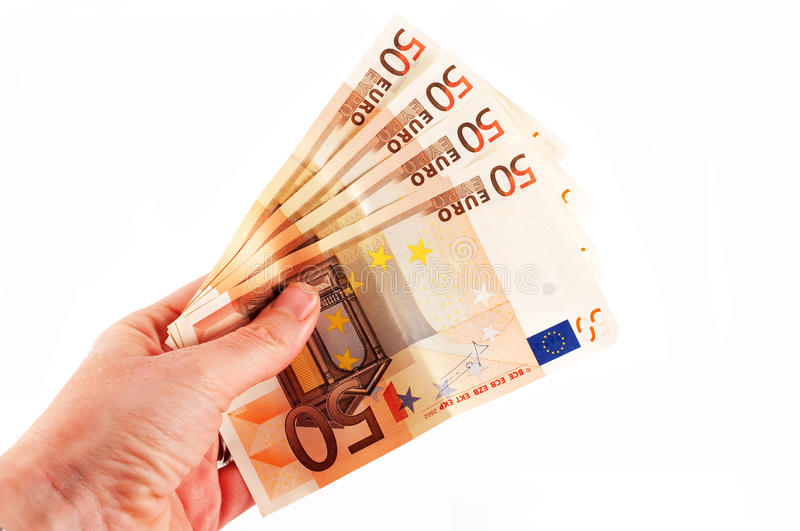billete: (157, 12, 624, 520)
